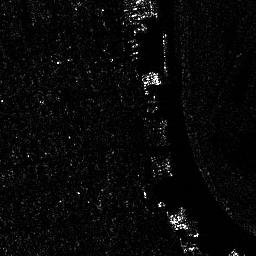ship: (160, 32, 170, 72)
